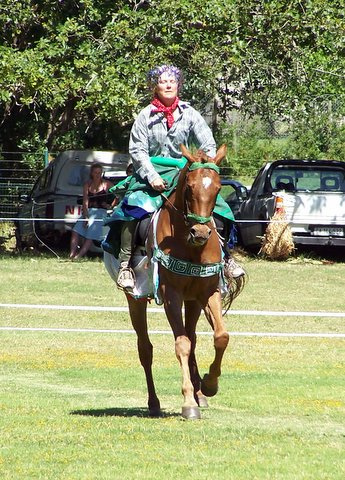person: (116, 65, 248, 292)
